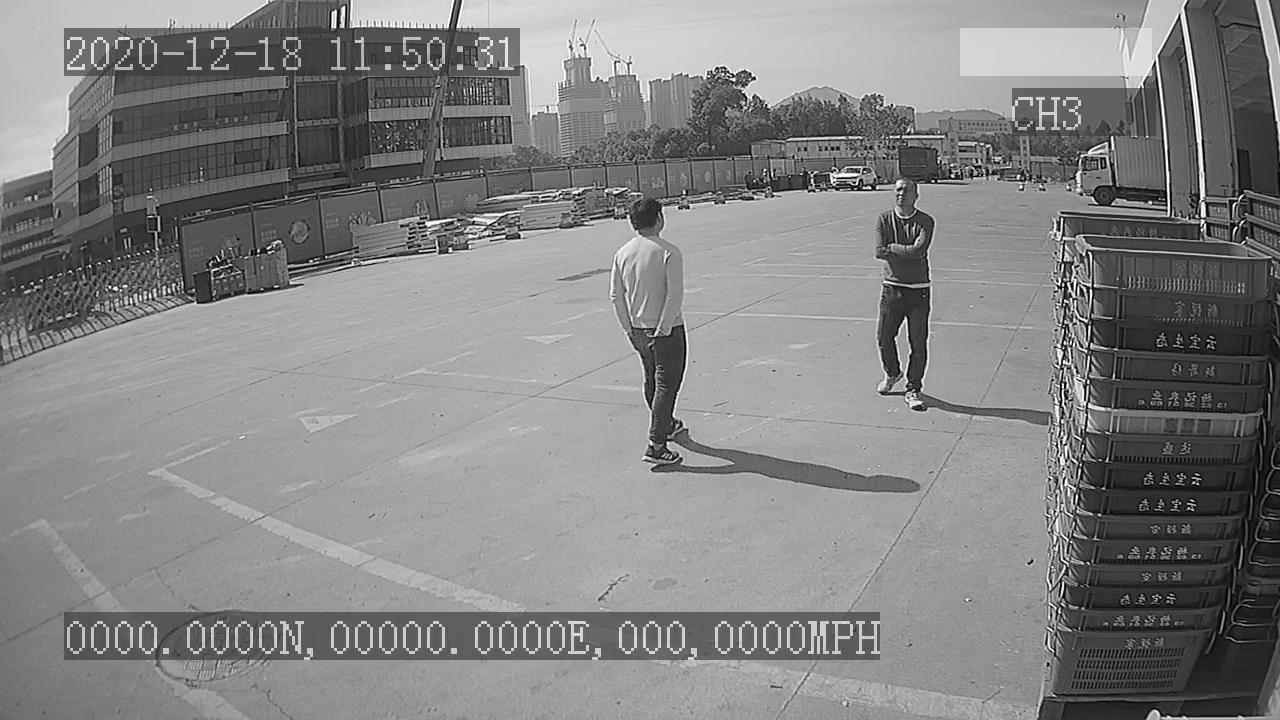person: (606, 195, 697, 472), (868, 172, 938, 413)
